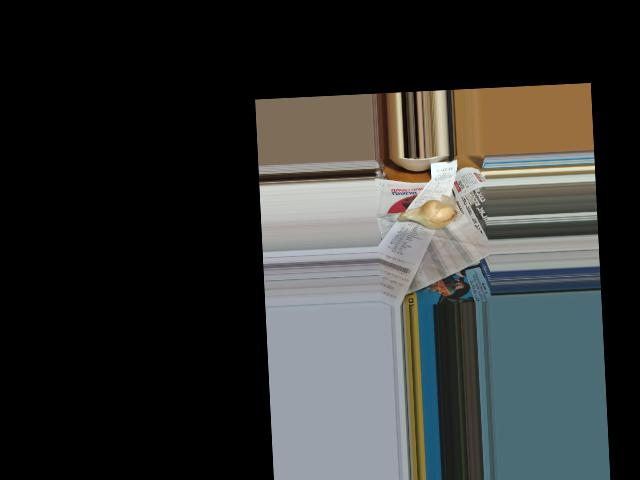onion: (403, 201, 455, 232)
